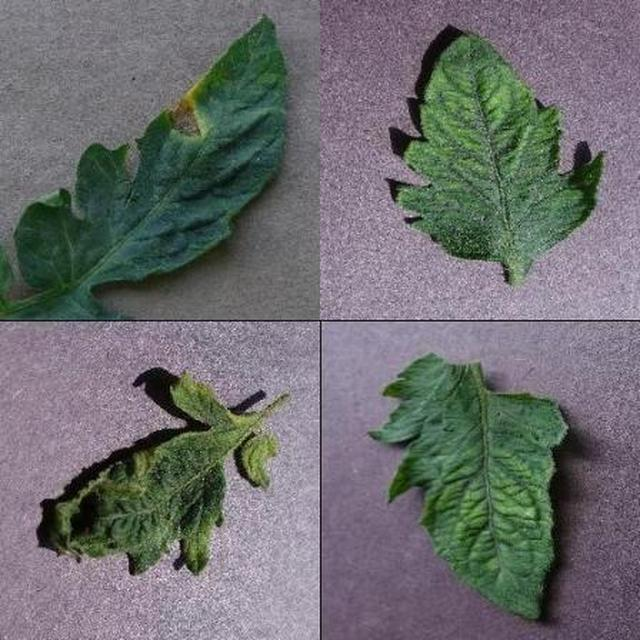Early Blight Leaf: (218, 208, 640, 640)
